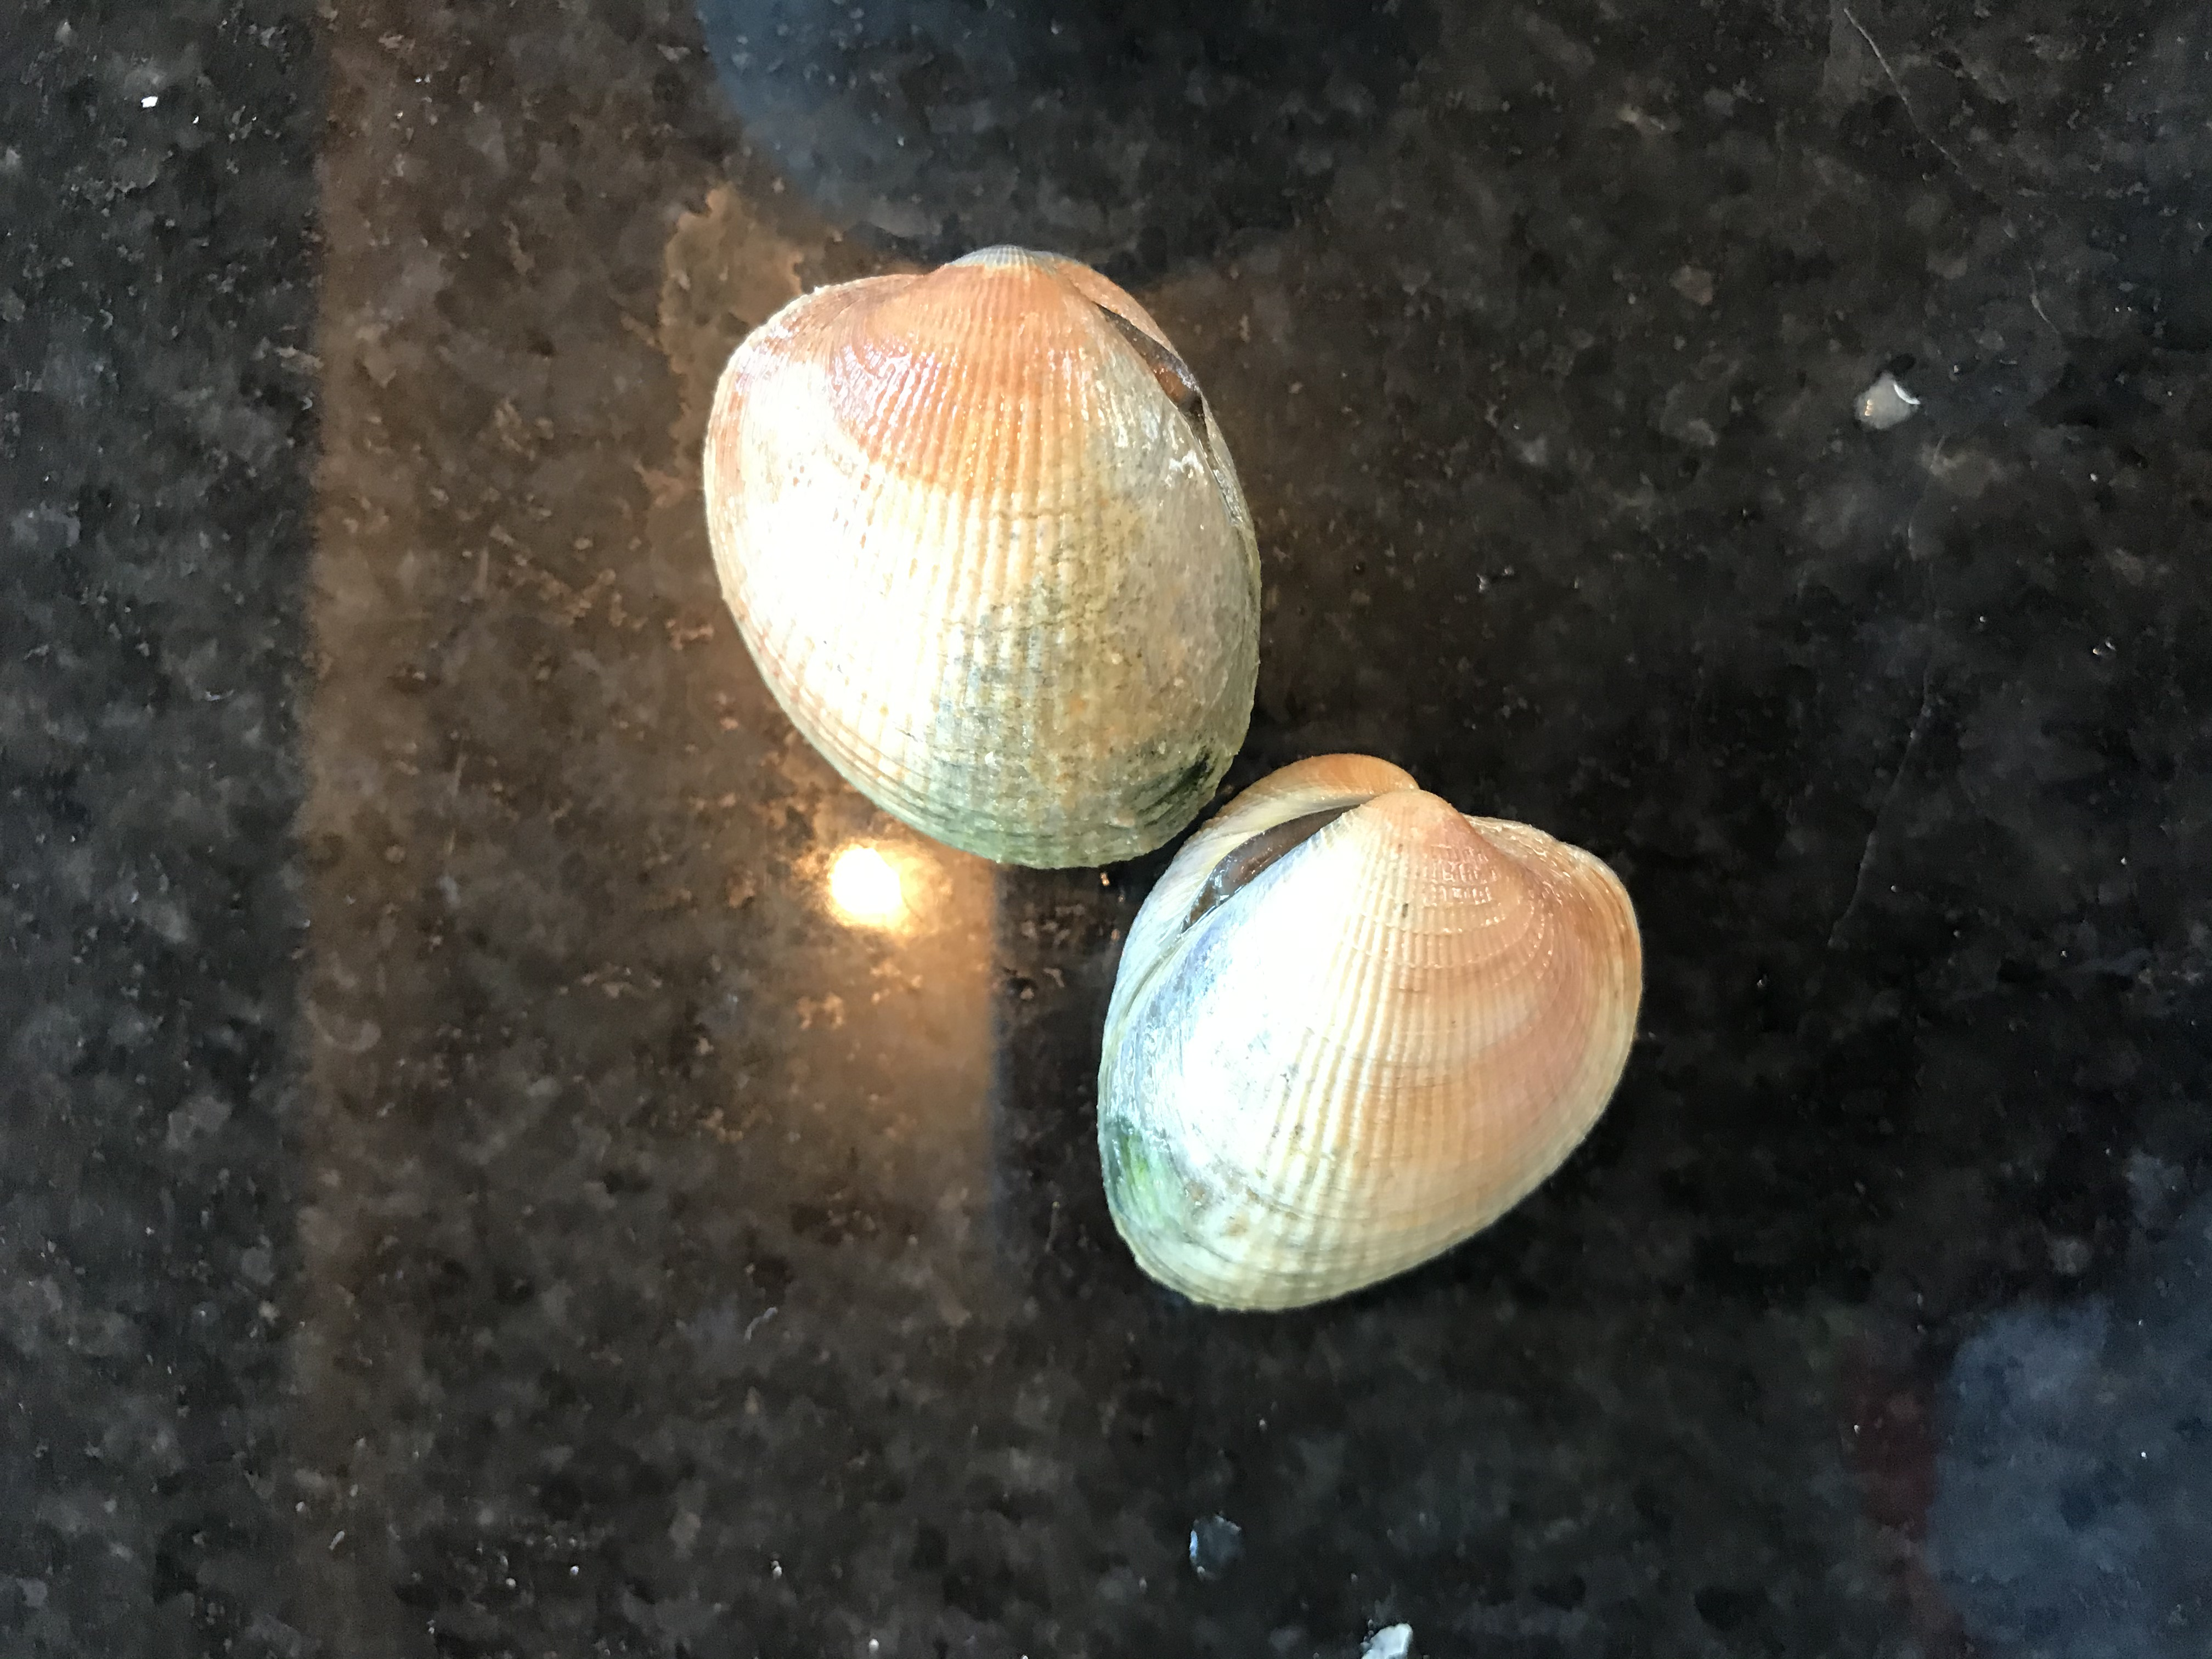cockle: (695, 242, 1268, 878), (1087, 746, 1656, 1317)
